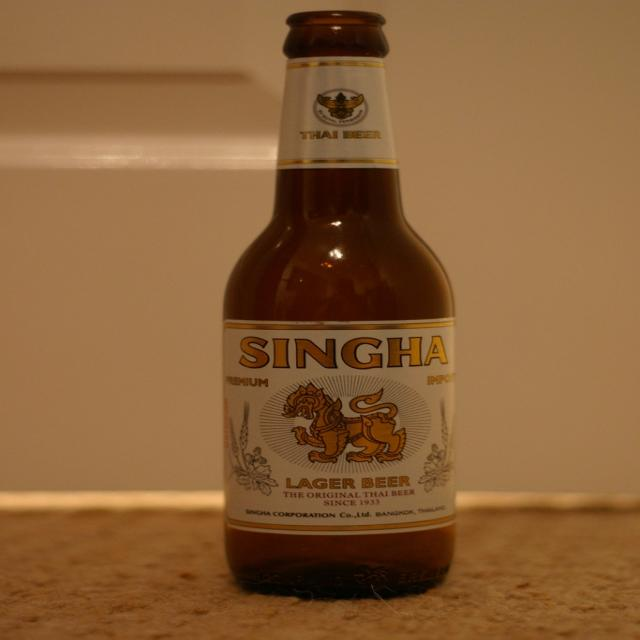singha: (224, 322, 458, 534)
